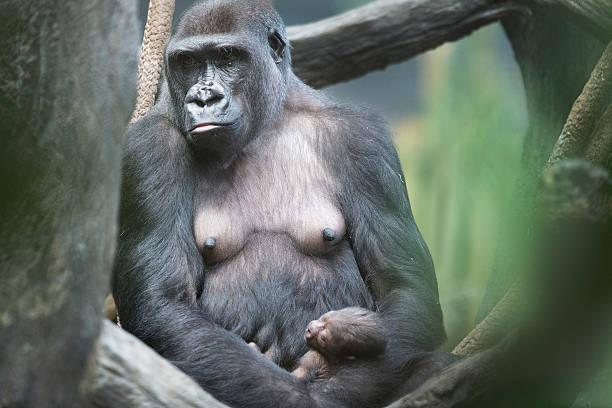gorille_Autres: (119, 0, 450, 408)
